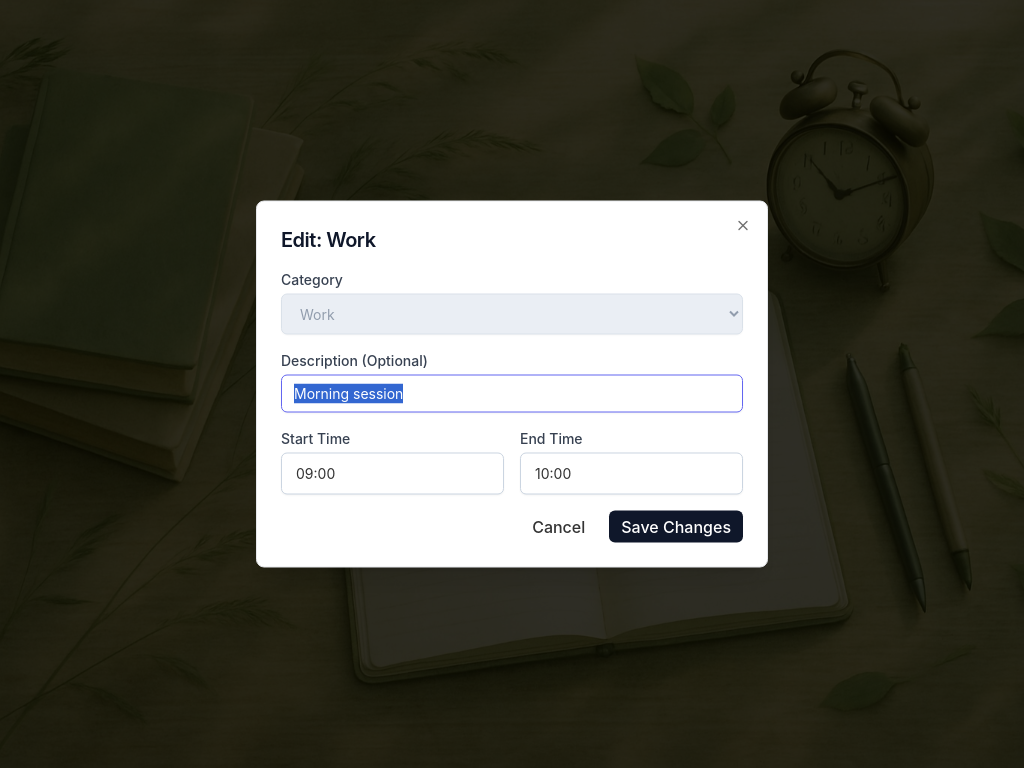
TimeWindowModal › Edit Mode › shows error if time window overlaps with an existing one in edit mode
Try to move tw1 to 10:30-11:30, which overlaps with tw2 (11:00-12:00)
Replace the text in the field labelled "Start Time" with "10:30" at {"x": 392, "y": 474}, box left=281, top=452, right=504, bottom=494
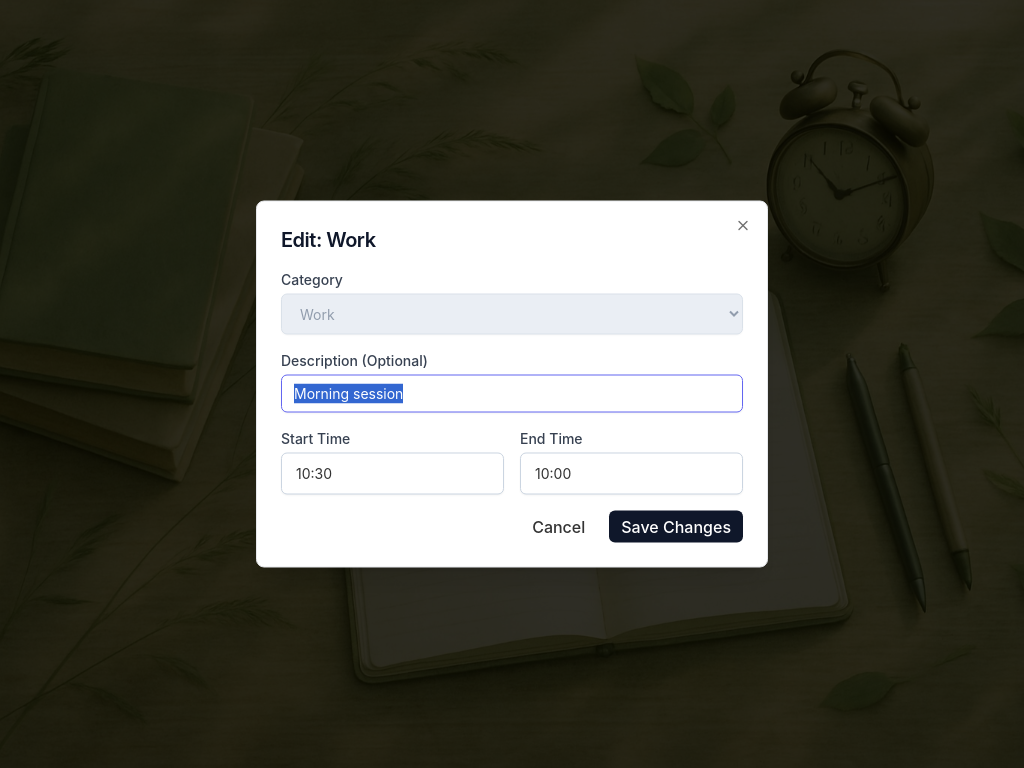
Replace the text in the field labelled "End Time" with "11:30" at {"x": 632, "y": 474}, box left=520, top=452, right=743, bottom=494
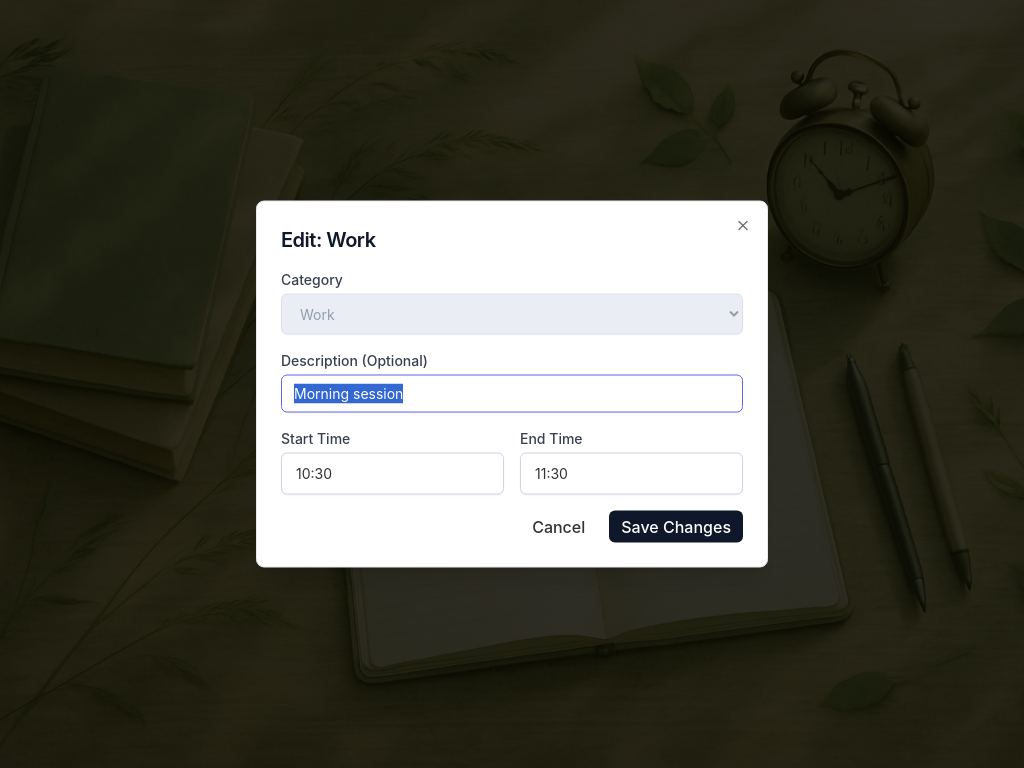
Click the button "Save Changes" at {"x": 676, "y": 526}, box left=609, top=510, right=743, bottom=542
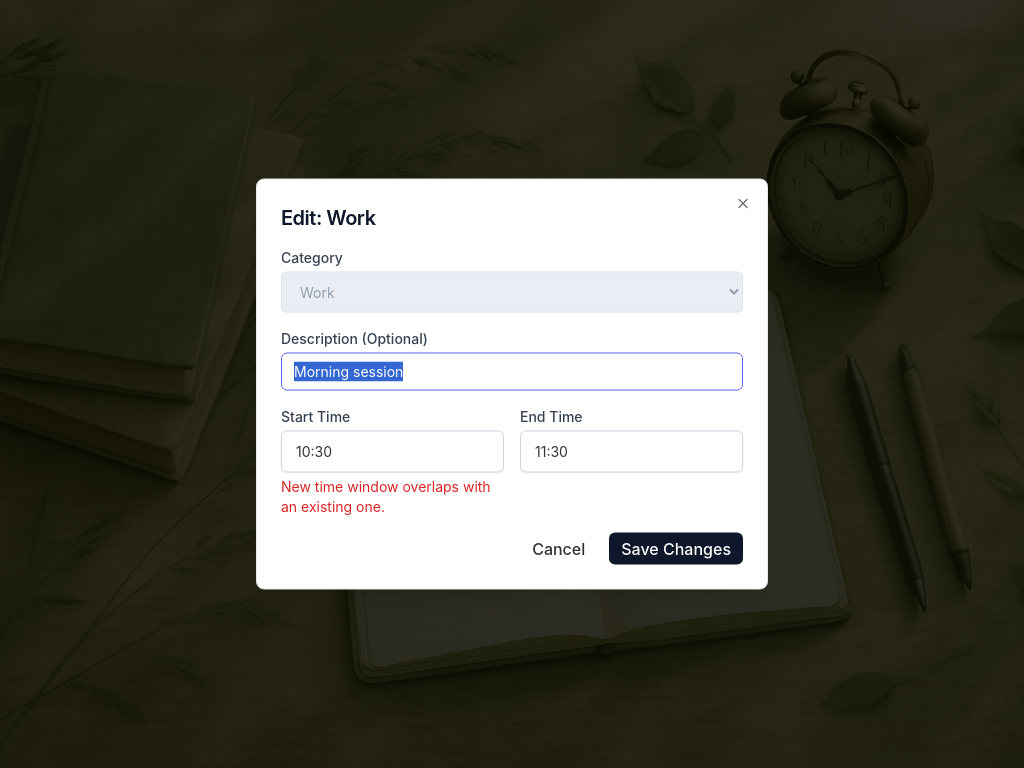
expect the text "New time window overlaps with an existing one." is shown: met, box left=281, top=476, right=504, bottom=516
